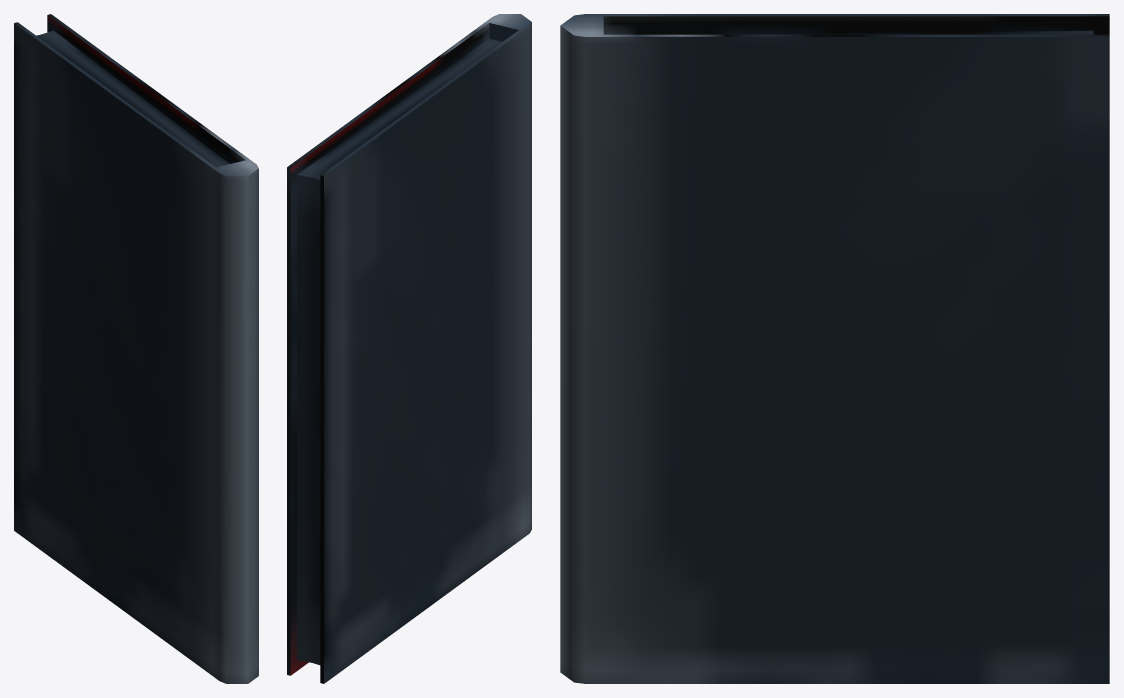
Rendered from RE_PropBook04.FBX.
3 views of the same model, side by side, from view 1: azimuth 30°, elevation 25°; view 2: azimuth 150°, elevation 25°; view 3: azimuth 270°, elevation 25° (orthographic). The views are drawn at different scales.
Visible parts, largest first — view 1: RE_PropBook04; view 2: RE_PropBook04; view 3: RE_PropBook04.
Part boxes in pixels (<box>): RE_PropBook04: <box>14,14,258,683</box>; RE_PropBook04: <box>287,14,531,683</box>; RE_PropBook04: <box>560,14,1109,683</box>.
Size of the model in its own units: 0.9711 by 12.71 by 9.78.
1 material, 1 textured.
